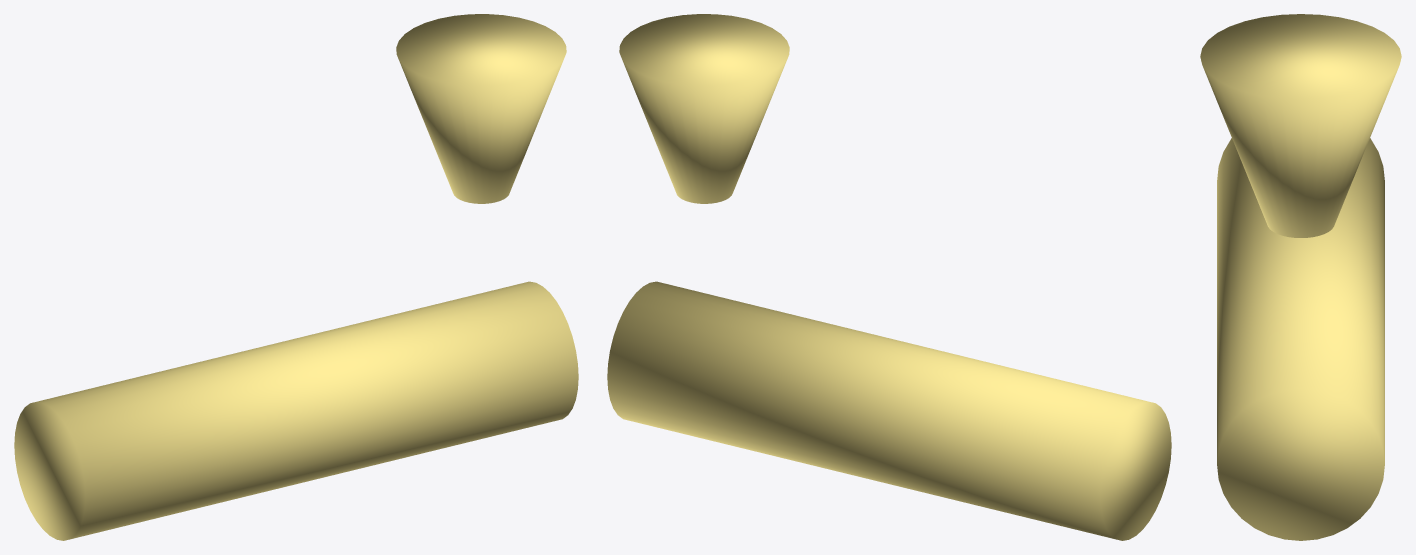
The model's file is AstraTrident.fbx.
The picture shows the model from 3 angles, left to right: view 1: azimuth 30°, elevation 25°; view 2: azimuth 150°, elevation 25°; view 3: azimuth 270°, elevation 25°; orthographic projection. The views are drawn at different scales.
Visible parts, largest first — view 1: AstraTrident; view 2: AstraTrident; view 3: AstraTrident.
Part boxes in pixels (left/top/right/bottom): AstraTrident: left=14, top=14, right=578, bottom=540; AstraTrident: left=607, top=14, right=1171, bottom=540; AstraTrident: left=1200, top=14, right=1401, bottom=540.
Bounding box in the file's own units: 0.82 × 0.59 × 0.24.
